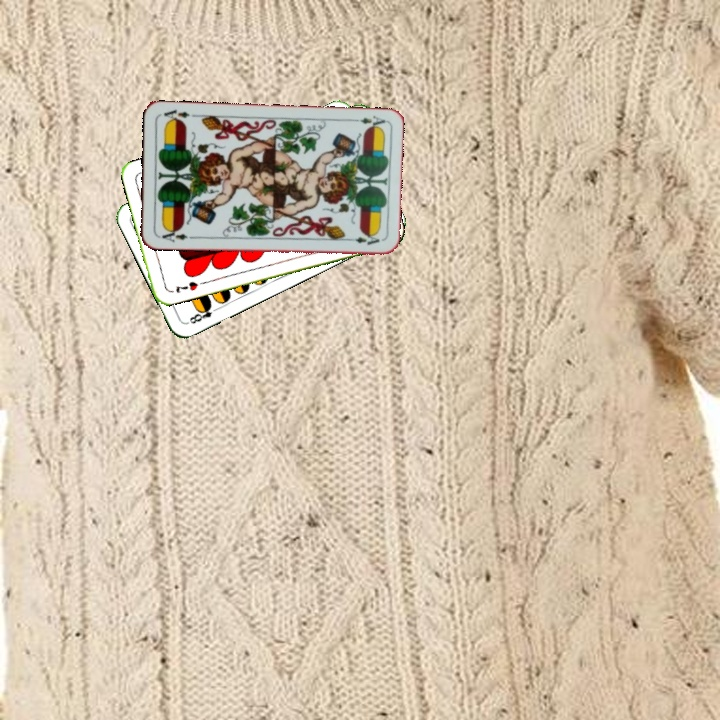E8: (183, 300, 221, 326)
EA: (347, 111, 388, 131), (155, 225, 195, 245)
H7: (172, 277, 201, 296)
